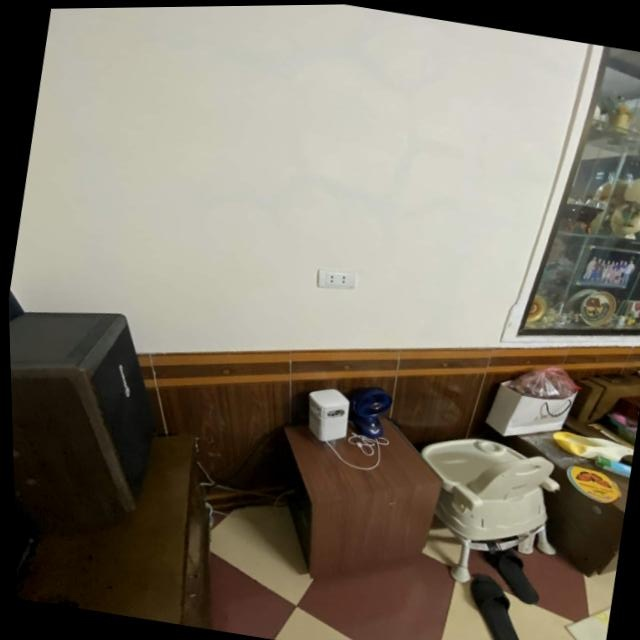outlet: (316, 265, 360, 293)
